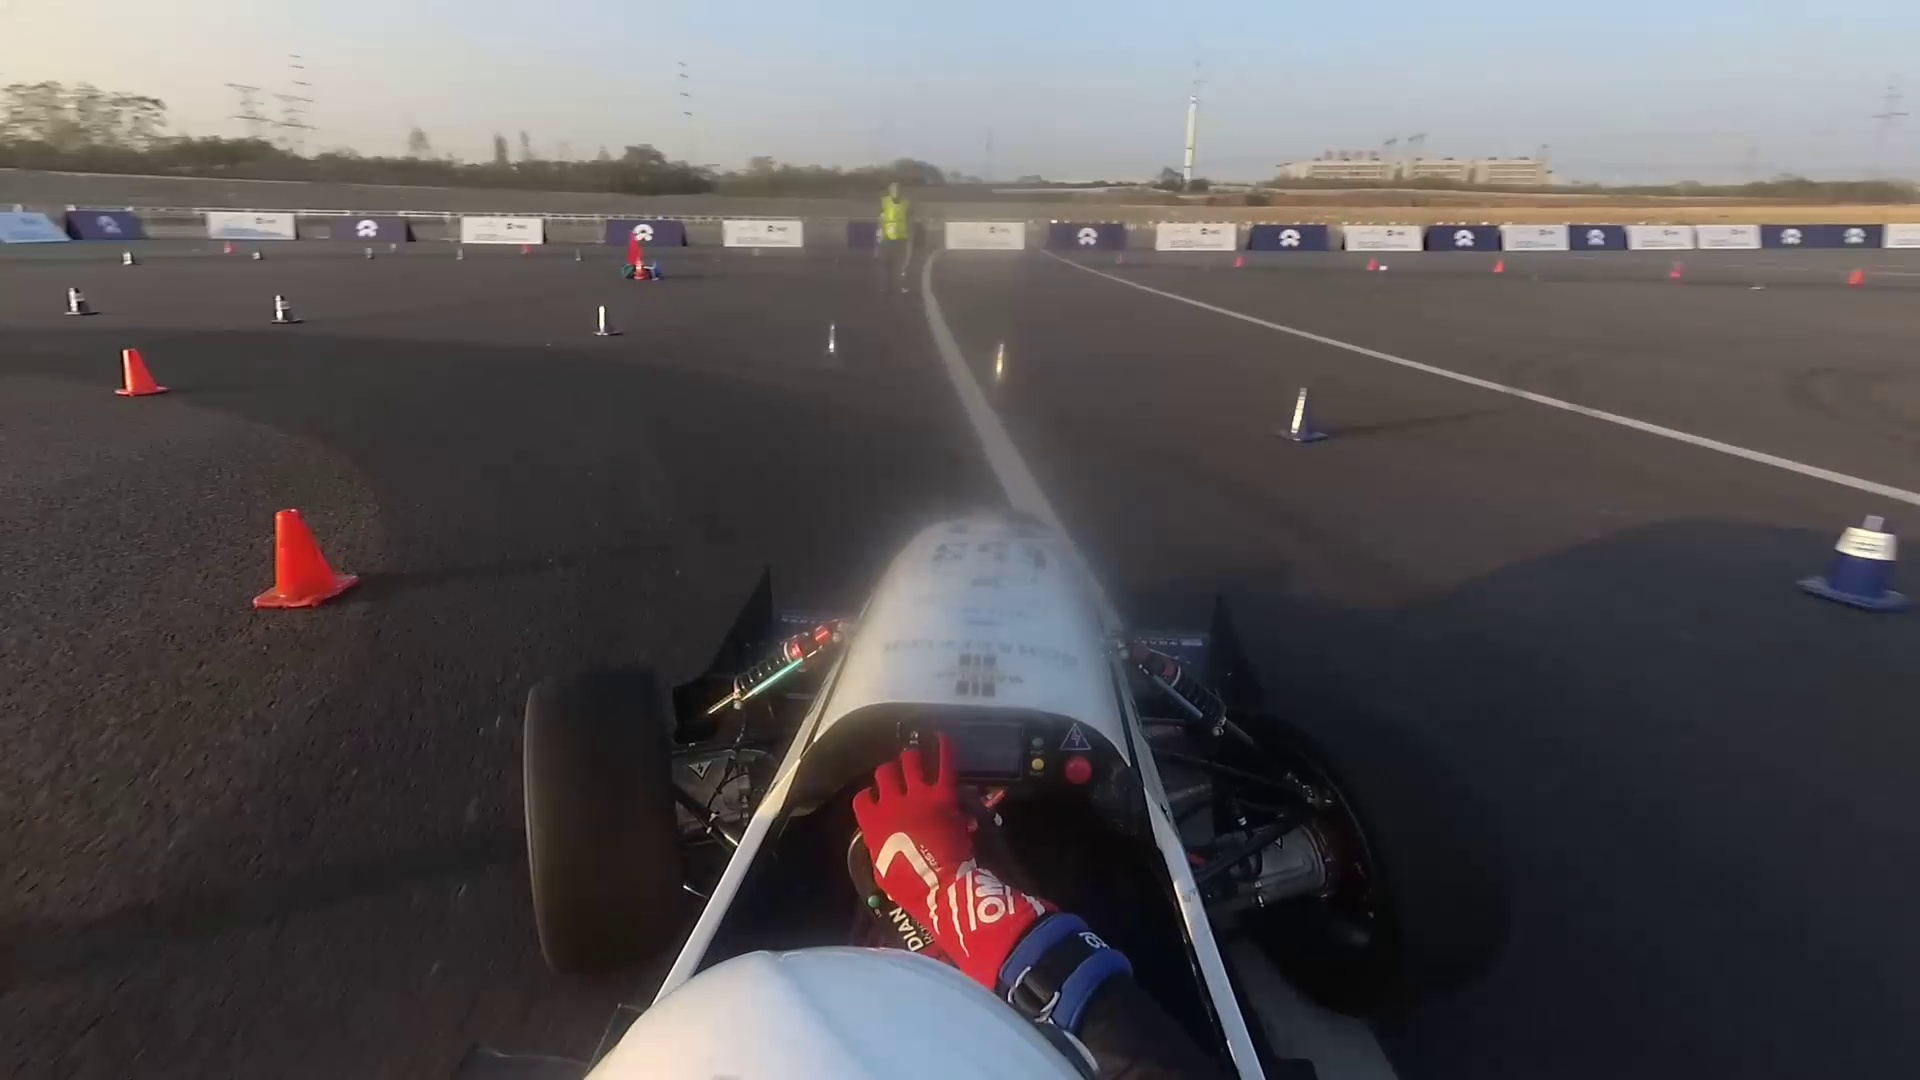blue_cone: (1787, 487, 1911, 632), (1284, 378, 1335, 459), (985, 324, 1034, 402), (260, 295, 309, 353), (587, 293, 628, 348), (55, 285, 100, 323), (806, 316, 845, 357)
red_cone: (237, 485, 382, 644), (113, 338, 179, 407)
